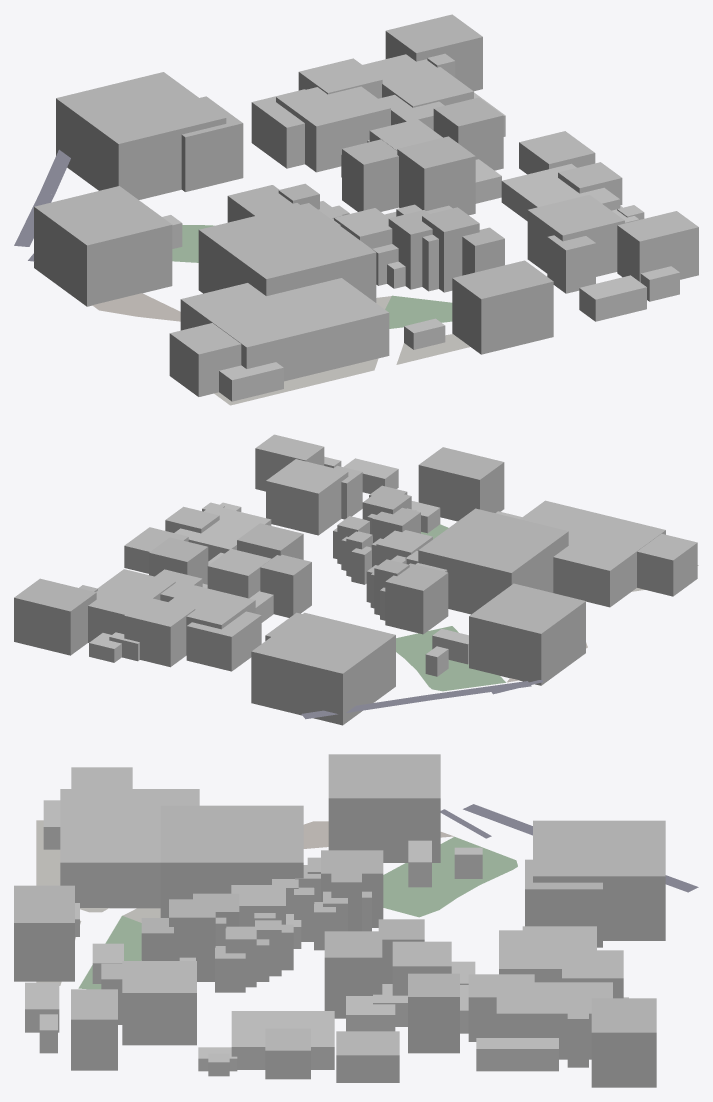
Rendered from 113_96_mid.glb.
3 renders of one model, top to bottom at view 1: azimuth 30°, elevation 25°; view 2: azimuth 150°, elevation 25°; view 3: azimuth 270°, elevation 25°, orthographic. The views are drawn at different scales.
Bounding box in the file's own units: 543 × 60.36 × 574.
